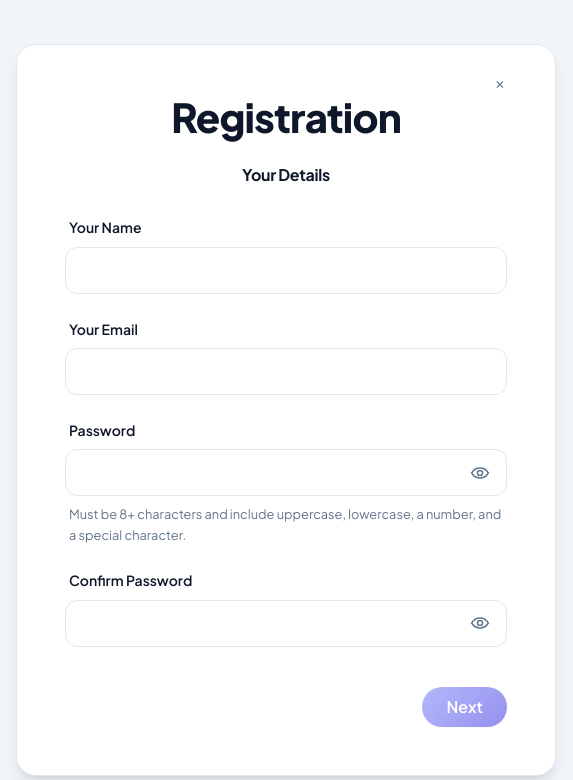
it: RegisterOwnerPage › returns to step 1 from the back button on step 2
Step 1. Type "Jane" into the field labelled "Your Name" → (286, 270), box [66,248,506,293]
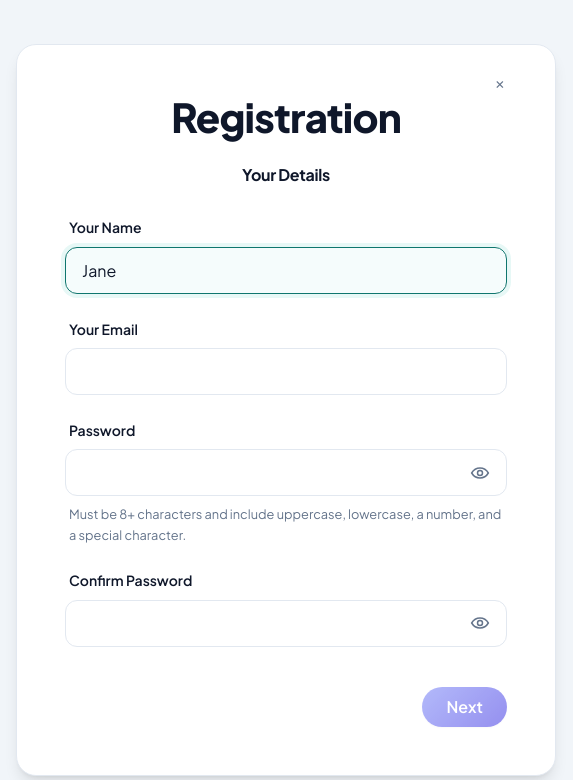
Step 2. Type "jane@example.com" into the field labelled "Your Email" → (286, 372), box [66,349,506,394]
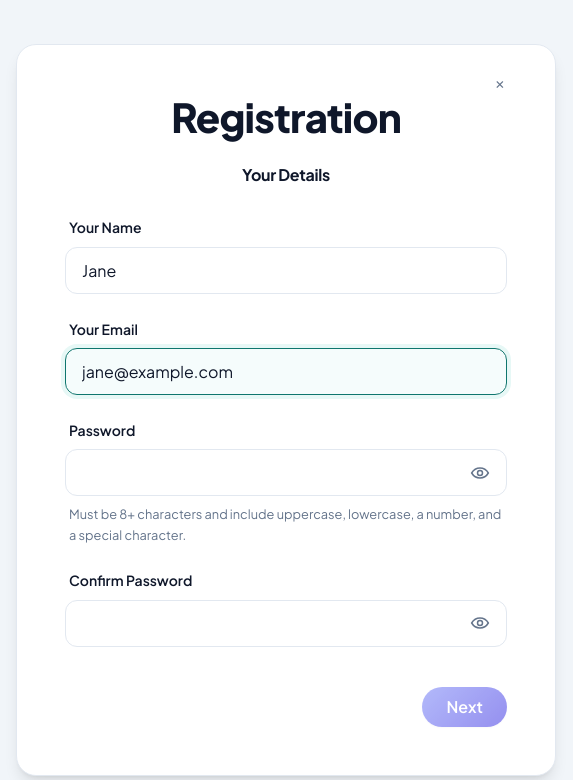
Step 3. Type "StrongPass1!" into the password field labelled "Password" → (286, 473), box [66,450,506,495]
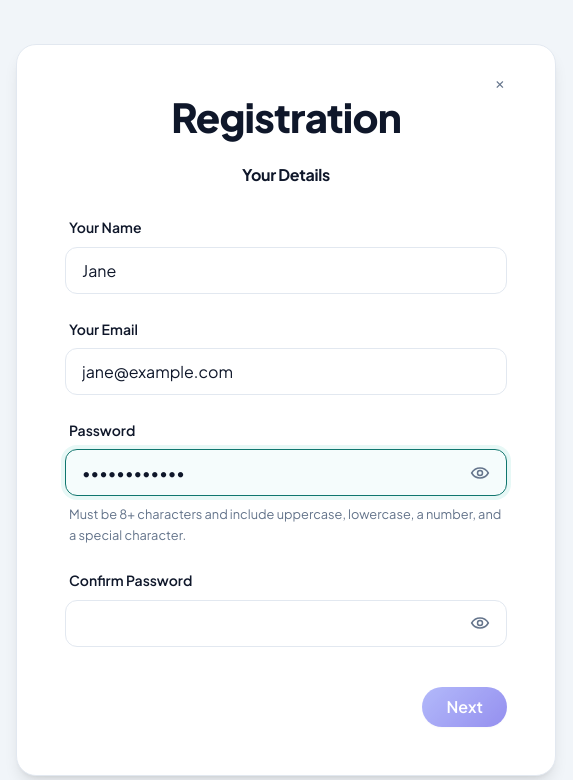
Step 4. Type "StrongPass1!" into the password field labelled "Confirm Password" → (286, 623), box [66,601,506,646]
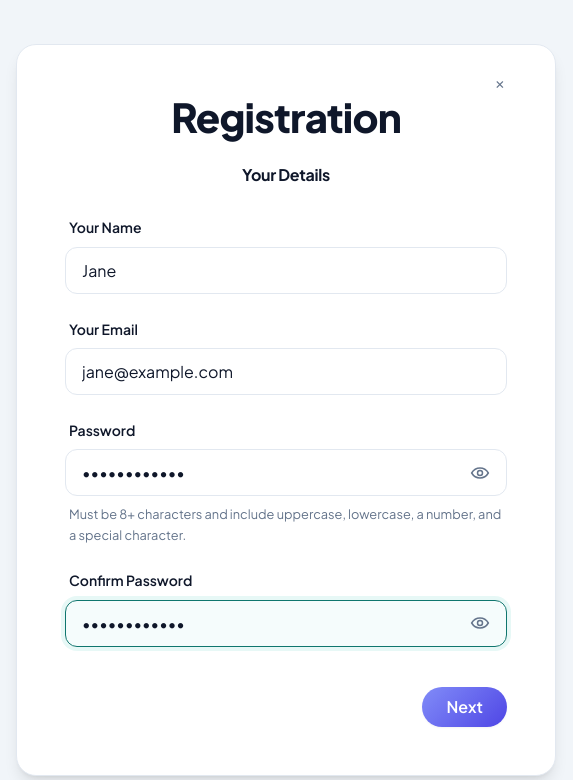
Step 5. Click the button "Next" → (465, 707), box [422,687,507,727]
(page scrolled)
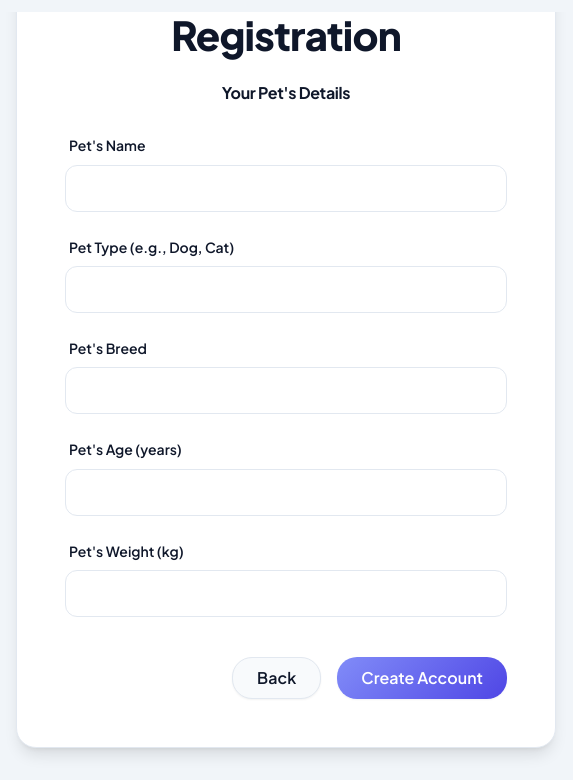
expect the heading "Your Pet's Details" is shown: met, box [222,82,350,103]
Step 6. Click the button "Back" → (277, 678), box [232,657,321,699]
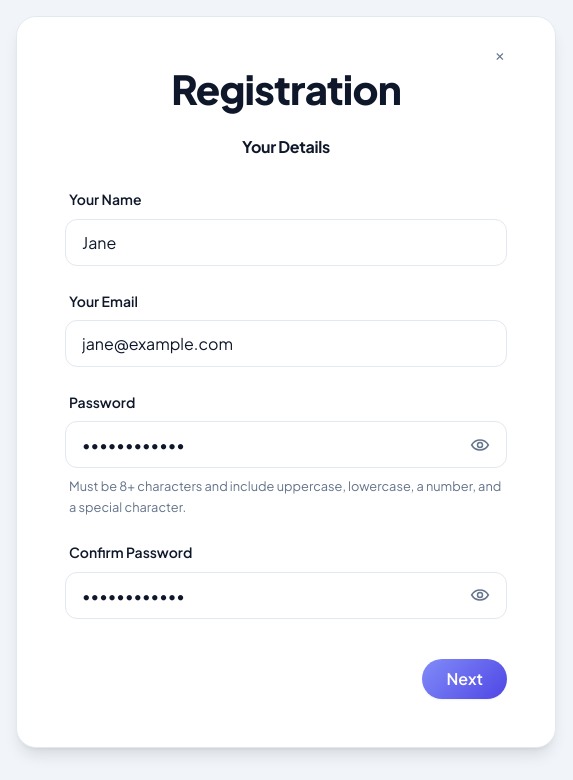
expect the heading "Your Details" is shown: met, box [242,136,330,157]
